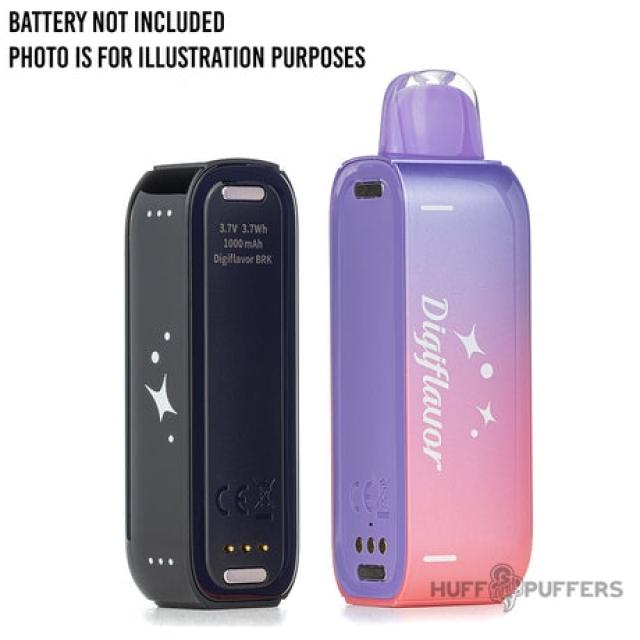Vape-images: (327, 67, 533, 609), (123, 156, 299, 609)
